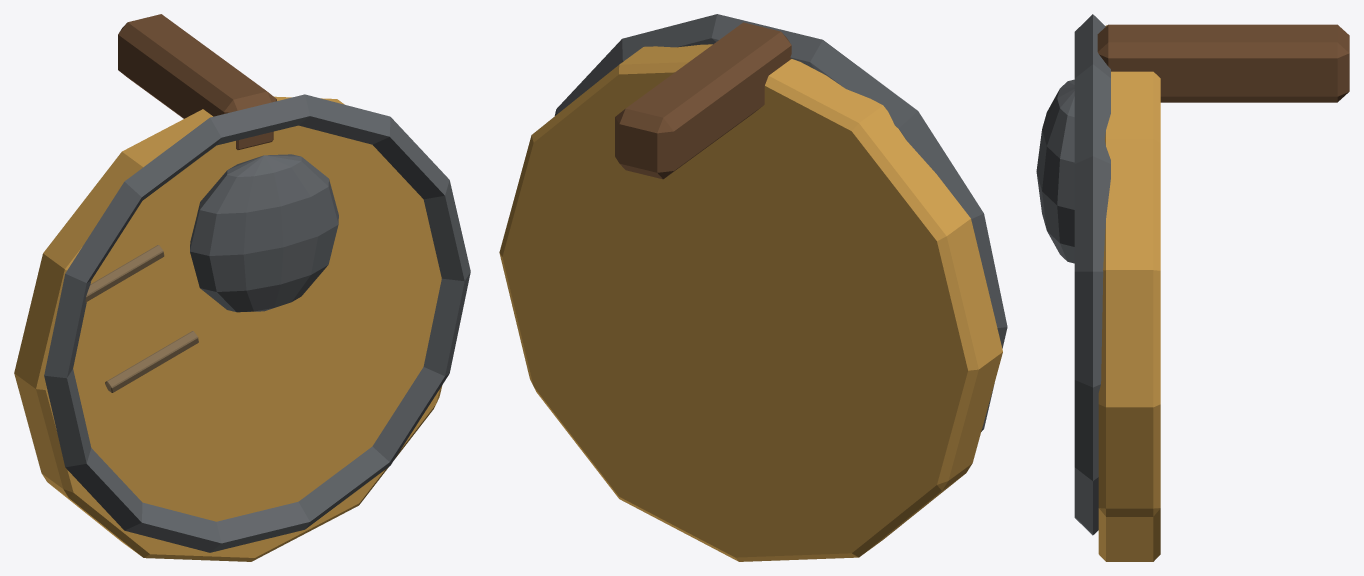
Rendered from runtime.glb.
3 renders of one model, left to right at view 1: azimuth 30°, elevation 25°; view 2: azimuth 150°, elevation 25°; view 3: azimuth 270°, elevation 25°, orthographic. The views are drawn at different scales.
Parts seen in each view (by area): view 1: falkenwacht-wall-shield-v06_nocol; view 2: falkenwacht-wall-shield-v06_nocol; view 3: falkenwacht-wall-shield-v06_nocol.
Part boxes in pixels (box(x1,y1,x2,y2)): falkenwacht-wall-shield-v06_nocol: box(14, 14, 470, 561); falkenwacht-wall-shield-v06_nocol: box(499, 14, 1007, 561); falkenwacht-wall-shield-v06_nocol: box(1036, 14, 1349, 561).
Bounding box in the file's own units: 0.8944 × 0.9236 × 0.5196.
